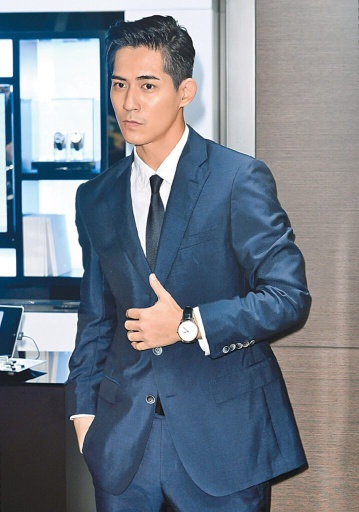male: (99, 14, 198, 150)
